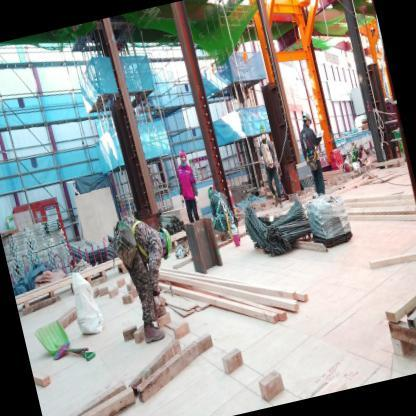safety-shoe: (138, 318, 172, 359), (151, 297, 178, 324)
